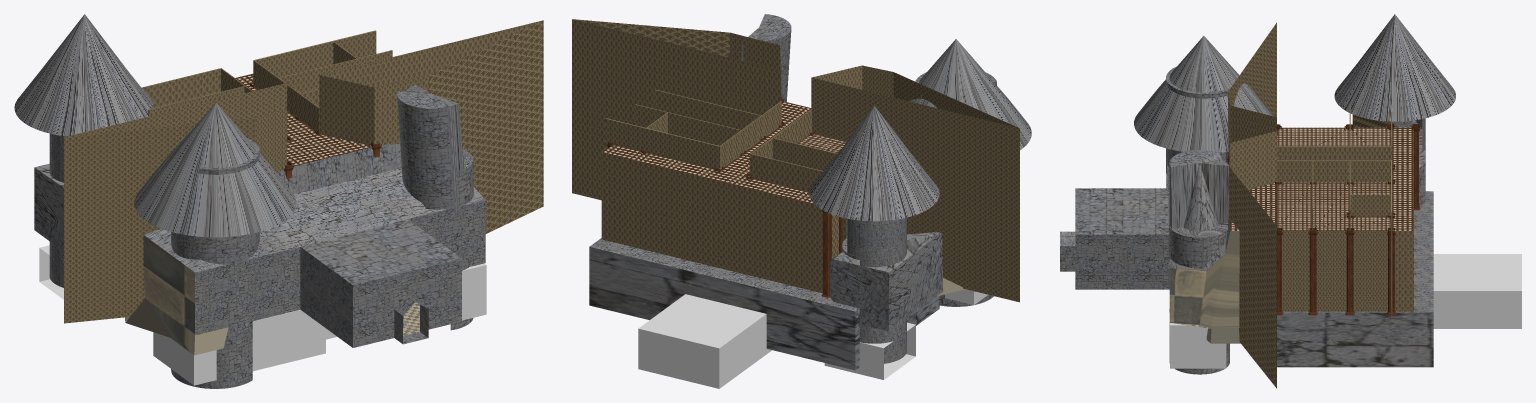
Rendered from castle_inside_scene_lvl_1_v2.fbx.
3 renders of one model, left to right at view 1: azimuth 30°, elevation 25°; view 2: azimuth 150°, elevation 25°; view 3: azimuth 270°, elevation 25°, orthographic. The views are drawn at different scales.
Visible parts, largest first — view 1: Cube.018, Cube.021, Cube.022, Cylinder.003, Cylinder.005, Circle.005, Cube.016, Cube.024, Circle.006, Cube.023, Cube.027, Cylinder (+2 smaller); view 2: Cube.018, Cube.022, Cube.021, Cube.020, Cylinder.005, Cube.017, Cube.024, Cylinder.003, Cube.023, Cube.033, Cube.027, Circle.005 (+3 smaller); view 3: Cube.018, Cube.020, Cube.021, Cylinder.005, Cylinder.003, Cube.017, Circle.005, Cube.022, Cube.024, Cylinder, Cube.016, Cube.023 (+7 smaller).
Part boxes in pixels (bbox=[...]): Cube.018: bbox=[34, 73, 485, 355]; Cube.021: bbox=[319, 20, 543, 233]; Cube.022: bbox=[64, 83, 287, 323]; Cylinder.003: bbox=[134, 103, 296, 388]; Cylinder.005: bbox=[14, 14, 153, 287]; Circle.005: bbox=[397, 84, 464, 219]; Cube.016: bbox=[153, 263, 486, 385]; Cube.024: bbox=[253, 30, 376, 132]; Circle.006: bbox=[194, 138, 259, 274]; Cube.023: bbox=[141, 68, 252, 107]; Cube.027: bbox=[279, 50, 392, 93]; Cylinder: bbox=[450, 149, 473, 330]; Cube.018: bbox=[601, 101, 965, 331]; Cube.022: bbox=[811, 65, 1019, 302]; Cube.021: bbox=[572, 19, 781, 200]; Cube.020: bbox=[589, 238, 939, 370]; Cylinder.005: bbox=[809, 106, 939, 363]; Cube.017: bbox=[638, 294, 915, 388]; Cube.024: bbox=[605, 101, 781, 169]; Cylinder.003: bbox=[909, 39, 1031, 306]; Cube.023: bbox=[749, 109, 847, 242]; Cube.033: bbox=[654, 89, 760, 129]; Cube.027: bbox=[635, 104, 740, 145]; Circle.005: bbox=[741, 14, 791, 101]; Cube.018: bbox=[1060, 127, 1425, 343]; Cube.020: bbox=[1277, 191, 1433, 367]; Cube.021: bbox=[1229, 131, 1276, 388]; Cylinder.005: bbox=[1334, 14, 1455, 185]; Cylinder.003: bbox=[1134, 36, 1272, 188]; Cube.017: bbox=[1433, 254, 1521, 328]; Circle.005: bbox=[1169, 150, 1229, 265]; Cube.022: bbox=[1228, 22, 1276, 153]; Cube.024: bbox=[1277, 160, 1392, 315]; Cylinder: bbox=[1169, 223, 1229, 374]; Cube.016: bbox=[1170, 323, 1226, 368]; Cube.023: bbox=[1277, 112, 1392, 159].
Size of the model in its own units: 1596 by 900 by 1525.
